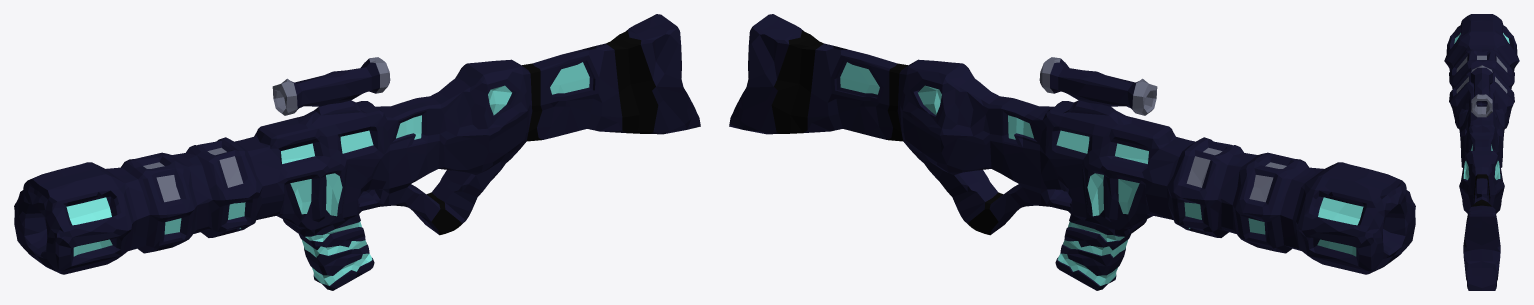
The model's file is Garu.fbx.
3 views of the same model, side by side, from view 1: azimuth 30°, elevation 25°; view 2: azimuth 150°, elevation 25°; view 3: azimuth 270°, elevation 25° (orthographic). The views are drawn at different scales.
Parts seen in each view (by area): view 1: Garu V2; view 2: Garu V2; view 3: Garu V2.
Boxes of the visible parts, x1=… form: Garu V2: x1=14, y1=14, x2=700, y2=290; Garu V2: x1=729, y1=14, x2=1415, y2=290; Garu V2: x1=1444, y1=14, x2=1519, y2=290.
Bounding box in the file's own units: 0.2871 × 0.6065 × 1.95.
